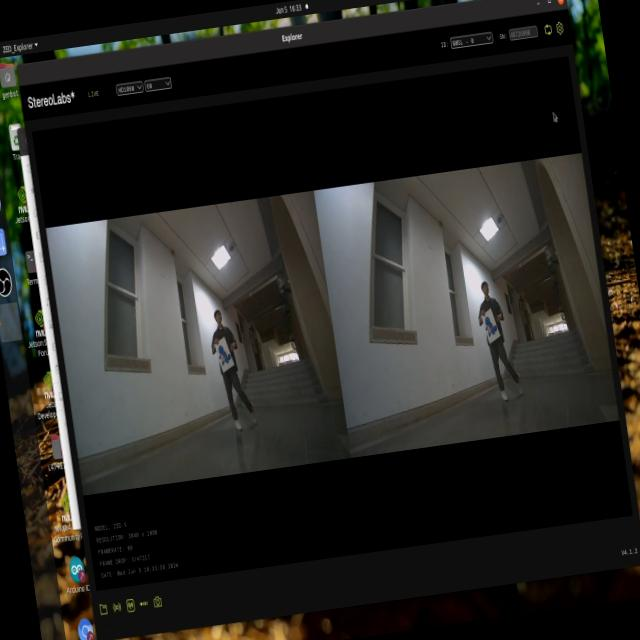blue: (211, 341, 240, 376), (480, 317, 502, 344)
